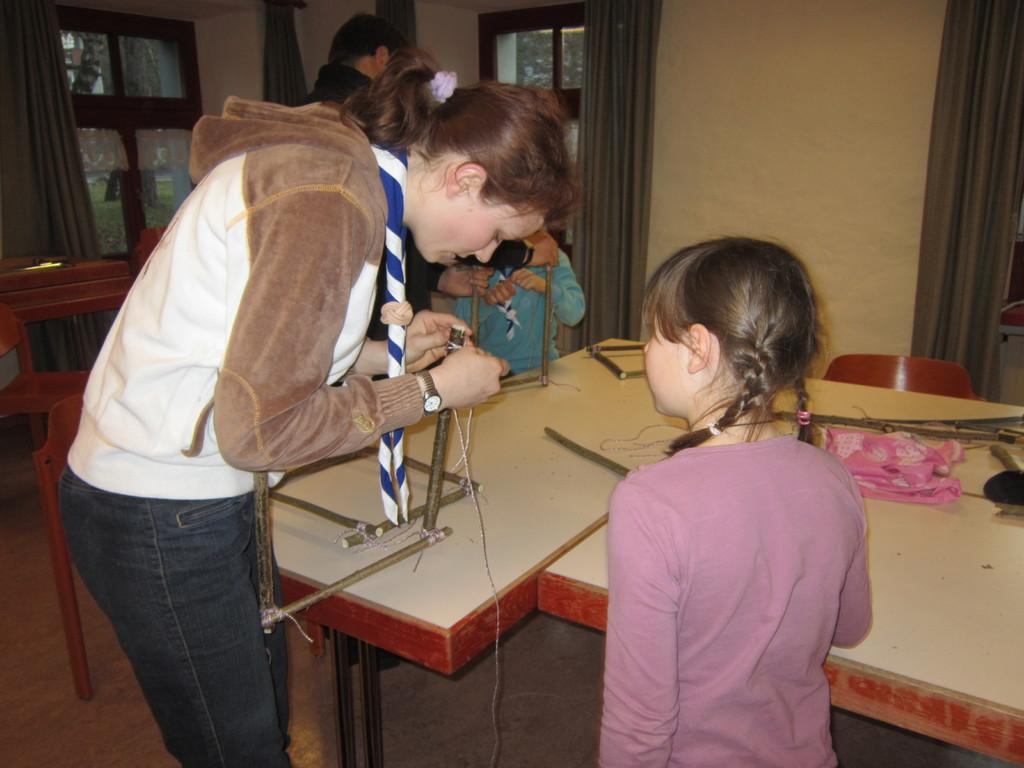Chair: (0, 302, 90, 449), (822, 353, 986, 402)
